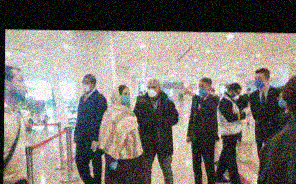with_mask: (253, 73, 266, 89), (277, 94, 288, 111), (146, 84, 159, 98), (197, 82, 208, 96), (120, 90, 131, 104), (81, 79, 92, 93), (231, 90, 242, 101)
without_mask: (11, 73, 28, 101)
